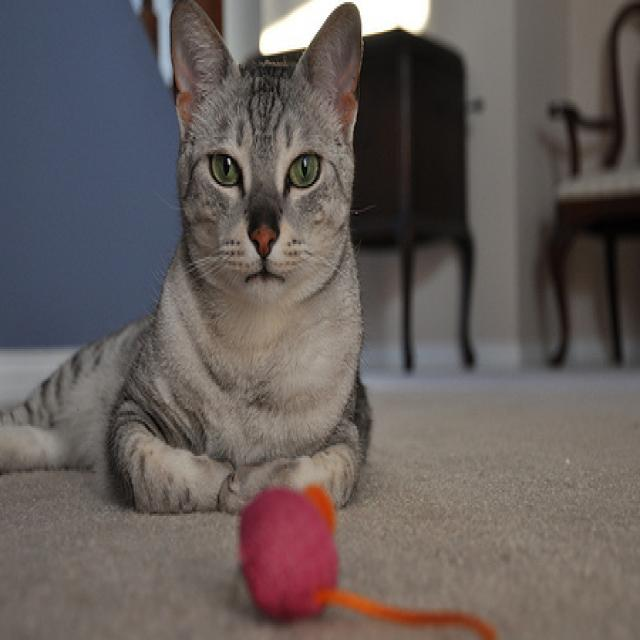Egyptian Mau: (0, 0, 371, 520)
